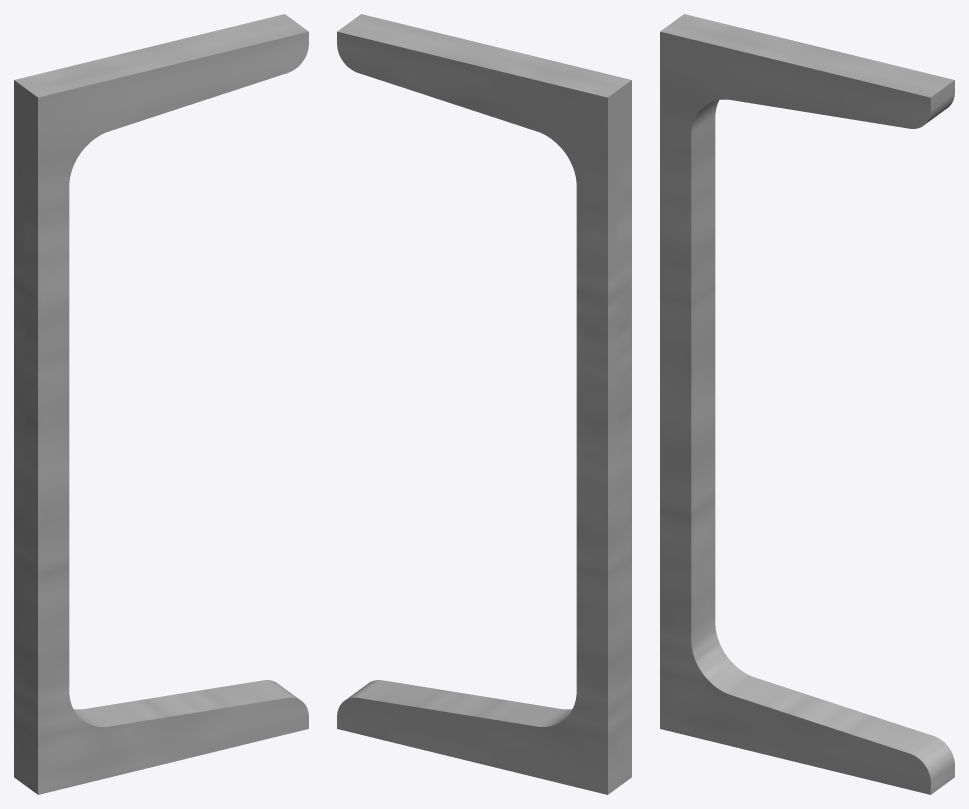
The model's file is UPN160.glb.
3 views of the same model, side by side, from view 1: azimuth 30°, elevation 25°; view 2: azimuth 150°, elevation 25°; view 3: azimuth 330°, elevation 25° (orthographic).
Size of the model in its own units: 6.5 by 16 by 1.
1 material, 1 textured.
